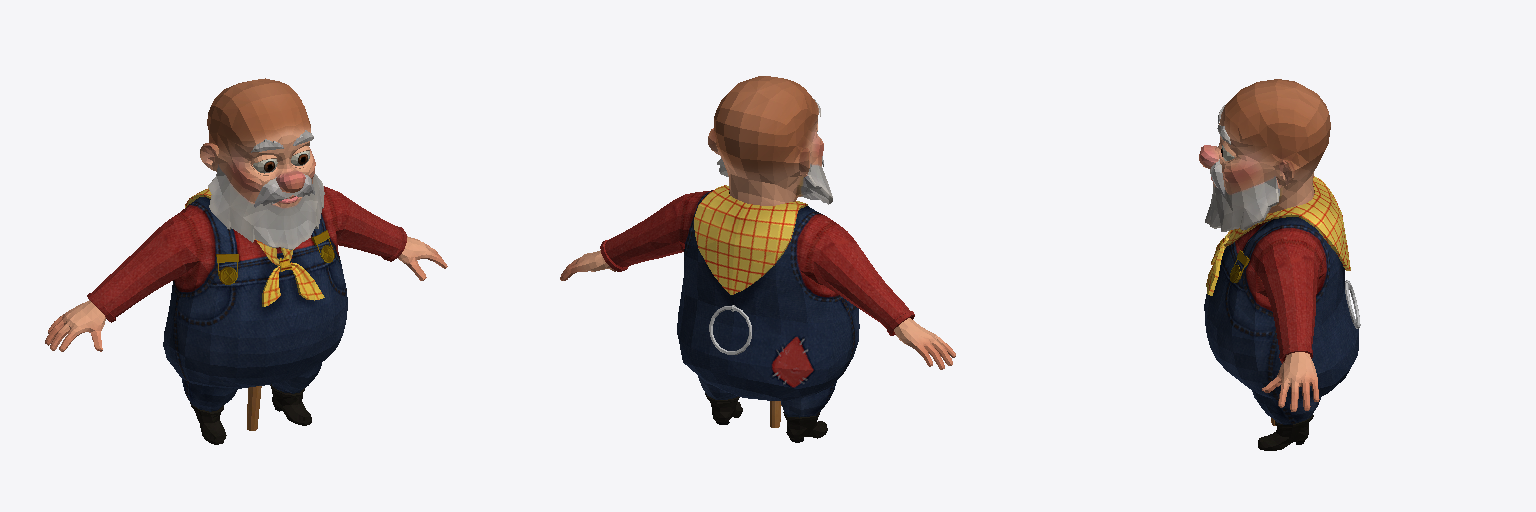
3 renders of one model, left to right at view 1: azimuth 30°, elevation 25°; view 2: azimuth 150°, elevation 25°; view 3: azimuth 270°, elevation 25°, orthographic.
Parts seen in each view (by area): view 1: obj1, obj1.032, obj1.033, obj1.010, obj1.014, obj1.049, obj1.031, obj1.011, obj1.040, obj1.001, obj1.013, obj1.039 (+1 smaller); view 2: obj1, obj1.032, obj1.036, obj1.063, obj1.033, obj1.010, obj1.014, obj1.031, obj1.001, obj1.011, obj1.040, obj1.035; view 3: obj1, obj1.032, obj1.010, obj1.036, obj1.011, obj1.040, obj1.039.
Part boxes in pixels (left/top/right/bottom): obj1: left=163, top=186, right=348, bottom=388; obj1.032: left=200, top=78, right=324, bottom=248; obj1.033: left=87, top=224, right=186, bottom=322; obj1.010: left=337, top=193, right=406, bottom=261; obj1.014: left=45, top=300, right=105, bottom=351; obj1.049: left=262, top=262, right=324, bottom=306; obj1.031: left=182, top=379, right=237, bottom=411; obj1.011: left=398, top=236, right=447, bottom=280; obj1.040: left=270, top=384, right=311, bottom=425; obj1.001: left=190, top=403, right=226, bottom=444; obj1.013: left=254, top=174, right=314, bottom=207; obj1.039: left=272, top=363, right=321, bottom=393; obj1: left=674, top=190, right=859, bottom=400; obj1.032: left=708, top=76, right=832, bottom=205; obj1.036: left=694, top=185, right=805, bottom=294; obj1.063: left=728, top=311, right=832, bottom=388; obj1.033: left=813, top=241, right=914, bottom=335; obj1.010: left=600, top=200, right=683, bottom=271; obj1.014: left=894, top=318, right=955, bottom=369; obj1.031: left=781, top=381, right=836, bottom=417; obj1.001: left=783, top=412, right=827, bottom=442; obj1.011: left=560, top=250, right=615, bottom=280; obj1.040: left=705, top=393, right=742, bottom=424; obj1.035: left=717, top=159, right=828, bottom=204; obj1: left=1204, top=217, right=1358, bottom=400; obj1.032: left=1199, top=79, right=1330, bottom=230; obj1.010: left=1262, top=257, right=1318, bottom=363; obj1.036: left=1224, top=176, right=1350, bottom=269; obj1.011: left=1262, top=352, right=1319, bottom=411; obj1.040: left=1258, top=415, right=1313, bottom=450; obj1.039: left=1252, top=391, right=1321, bottom=424.
Size of the model in its own units: 1.6 by 1.35 by 0.5718.
Materials: 1 (1 with a texture image).